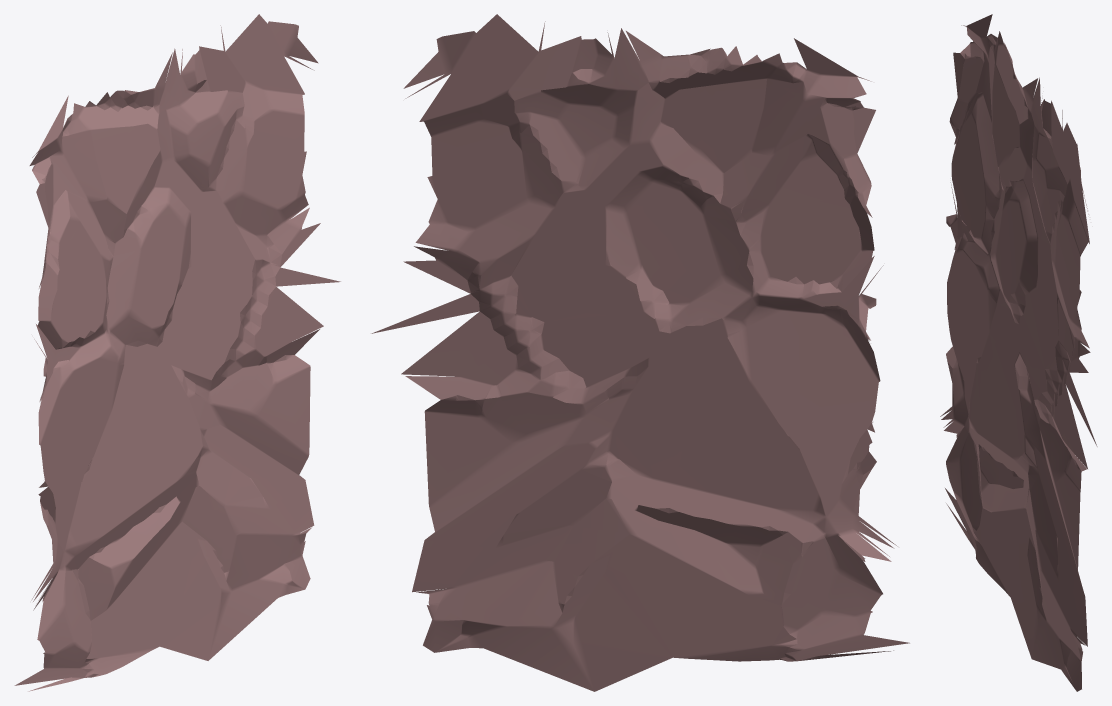
The model's file is cliff_area_2.fbx_Cliff_Area_2_024LODs.fbx.
3 views of the same model, side by side, from view 1: azimuth 30°, elevation 25°; view 2: azimuth 150°, elevation 25°; view 3: azimuth 270°, elevation 25° (orthographic). The views are drawn at different scales.
Visible parts, largest first — view 1: Cliff Area 2.024_LOD0; view 2: Cliff Area 2.024_LOD0; view 3: Cliff Area 2.024_LOD0.
Boxes of the visible parts, left/top/right/bottom form: Cliff Area 2.024_LOD0: left=14, top=14, right=340, bottom=691; Cliff Area 2.024_LOD0: left=371, top=14, right=909, bottom=691; Cliff Area 2.024_LOD0: left=940, top=14, right=1097, bottom=691.
Size of what is drawn, in the model's own units: 2780 by 4016 by 1006.
